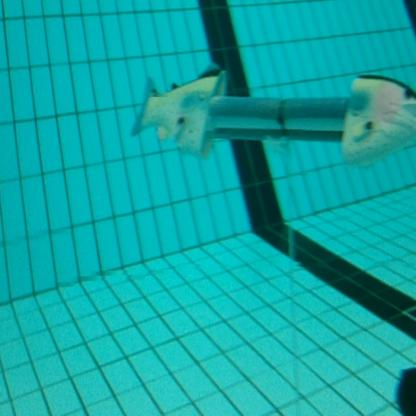tail: (130, 61, 230, 166)
